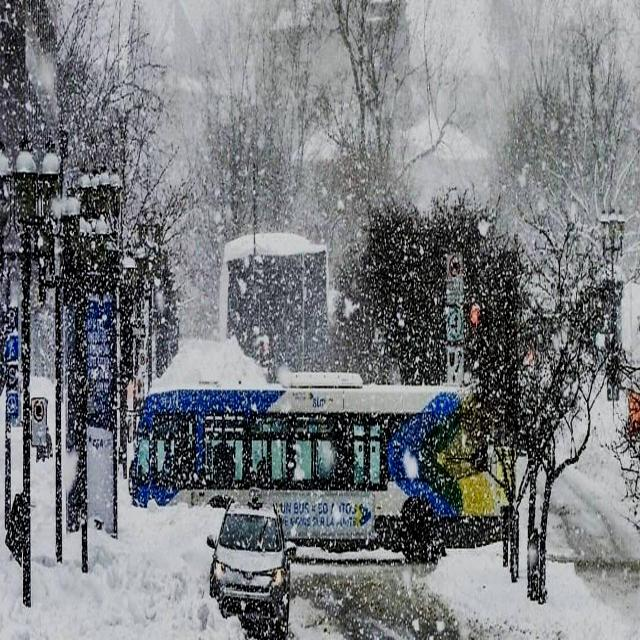Bus: (125, 367, 502, 566)
Car: (204, 489, 295, 640)
